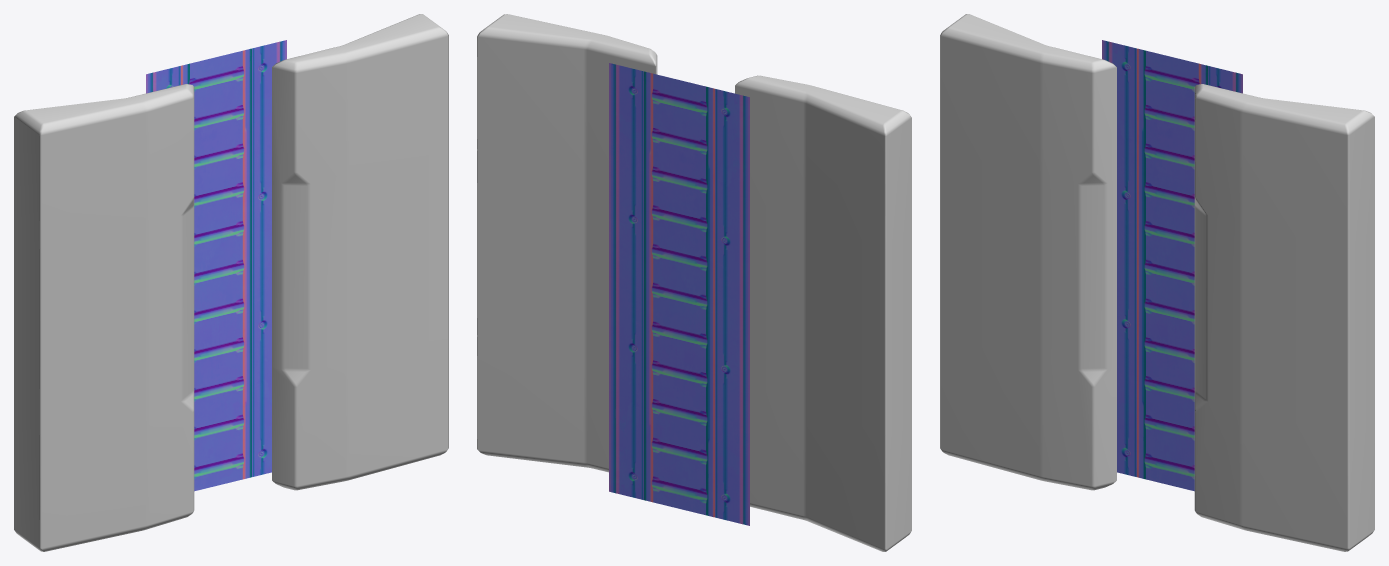
Rendered from LiftBack.FBX.
The picture shows the model from 3 angles, left to right: view 1: azimuth 30°, elevation 25°; view 2: azimuth 150°, elevation 25°; view 3: azimuth 330°, elevation 25°; orthographic projection.
Visible parts, largest first — view 1: Plane001, Object; view 2: Plane001, Object; view 3: Plane001, Object.
Boxes of the visible parts, x1,y1,x2,y2 form: Plane001: (14,14,448,551); Object: (146,40,286,491); Plane001: (477,14,911,551); Object: (609,63,749,525); Plane001: (940,14,1374,551); Object: (1102,40,1242,491).
Size of the model in its own units: 240 by 240 by 31.62.
